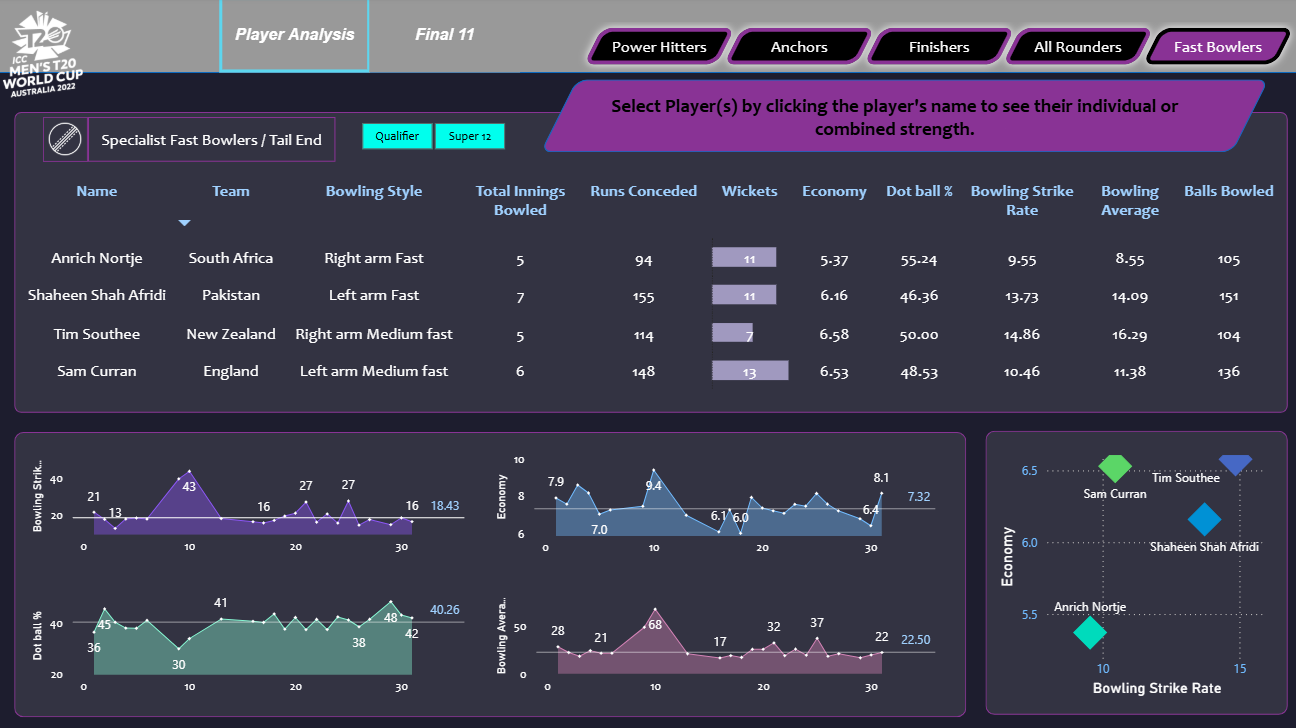

This screenshot's page, from the dashboard's own definition file:
{"tool":"powerbi","page":{"name":"Specialist Fast Bowlers/ Tail End","canvas":[1280,720],"ordinal":4},"visuals":[{"type":"shape","box":[0,73.7,1280.3,646.3],"z":0},{"type":"shape","box":[16.5,112.6,1250.1,295.3],"z":1000},{"type":"shape","box":[969.8,425.8,296.7,278.9],"z":2000},{"type":"image","box":[44.2,117.8,44.2,44.2],"z":3000},{"type":"shape","box":[16.5,426.8,934.5,279.9],"z":4000},{"type":"shape","box":[532.4,81,714.9,71.4],"z":5000},{"type":"tableEx","fields":{"Values":["dim_players.name","dim_players.team","dim_players.bowlingStyle","Key Measures (2).Total Innings Bowled","Key Measures (2).Runs Conceded","Key Measures (2).Wickets","Key Measures (2).Economy","Key Measures (2).Dot ball %","Key Measures (2).Bowling Strike Rate","Key Measures (2).Bowling Average","Key Measures (2).Balls Bowled"]},"box":[16,165.6,1250.3,242.9],"z":6000},{"type":"scatterChart","fields":{"Category":["dim_players.name"],"Series":["dim_players.name"],"Y":["Key Measures (2).Economy"],"X":["Key Measures (2).Bowling Strike Rate"]},"box":[977.9,436.8,279.8,255.2],"z":7000},{"type":"card","fields":{"Values":["Key Measures (2).Bowling Strike Rate"]},"box":[765.6,77.3,114.1,66.3],"z":8000},{"type":"card","fields":{"Values":["Key Measures (2).Dot ball %"]},"box":[950.9,78.5,109.2,61.4],"z":9000},{"type":"card","fields":{"Values":["Key Measures (2).Bowling Average"]},"box":[1046.6,78.8,104.3,62.6],"z":10000},{"type":"card","fields":{"Values":["Key Measures (2).Economy"]},"box":[868.7,81,100.6,57.7],"z":11000},{"type":"actionButton","box":[216.8,0,148.2,74.1],"z":12000},{"type":"image","box":[0,0,87.8,112.5],"z":13000},{"type":"actionButton","box":[566.7,22,164.7,52.1],"z":14000},{"type":"actionButton","box":[703.9,22,164.7,52.1],"z":15000},{"type":"actionButton","box":[841.2,22,164.7,52.1],"z":16000},{"type":"actionButton","box":[978.4,22,164.7,52.1],"z":17000},{"type":"actionButton","box":[1115.3,22,164.7,52.1],"z":18000},{"type":"shape","box":[550.3,90.6,231.9,43.9],"z":19000},{"type":"actionButton","box":[365,0,148.2,74.1],"z":20000},{"type":"shape","box":[584.1,92,592.6,51.5],"z":21000},{"type":"slicer","fields":{"Values":["dim_match_summary.Stage"]},"box":[330.7,116.6,190.7,38.4],"z":22000},{"type":"areaChart","fields":{"Category":["dim_match_summary.matchDate.Variation.Date Hierarchy.Day"],"Y":["Key Measures (2).Bowling Strike Rate"]},"box":[28.8,439.1,435,116.6],"z":23000},{"type":"areaChart","fields":{"Category":["dim_match_summary.matchDate.Variation.Date Hierarchy.Day"],"Y":["Key Measures (2).Bowling Average"]},"box":[483,575,441.9,118],"z":24000},{"type":"areaChart","fields":{"Category":["dim_match_summary.matchDate.Variation.Date Hierarchy.Day"],"Y":["Key Measures (2).Economy"]},"box":[483,439.1,441.9,118],"z":25000},{"type":"areaChart","fields":{"Category":["dim_match_summary.matchDate.Variation.Date Hierarchy.Day"],"Y":["Key Measures (2).Dot ball %"]},"box":[28.8,575,435,118],"z":26000},{"type":"shape","box":[87.8,118,242.9,43.9],"z":27000}]}

Visuals, with their boxes in screenshot pixels (x1, y1, x2, y2), scaled from the page's 1280x720 canvas onto the 1296x728 screenshot:
shape: crop(0, 75, 1295, 727)
shape: crop(17, 114, 1282, 412)
shape: crop(982, 431, 1282, 713)
image: crop(45, 119, 90, 164)
shape: crop(17, 432, 963, 715)
shape: crop(539, 82, 1263, 154)
tableEx - dim_players.name x dim_players.team: crop(16, 167, 1282, 413)
scatterChart - dim_players.name x dim_players.name: crop(990, 442, 1273, 700)
card - Key Measures (2).Bowling Strike Rate: crop(775, 78, 891, 145)
card - Key Measures (2).Dot ball %: crop(963, 79, 1073, 141)
card - Key Measures (2).Bowling Average: crop(1060, 80, 1165, 143)
card - Key Measures (2).Economy: crop(880, 82, 981, 140)
actionButton: crop(220, 0, 370, 75)
image: crop(0, 0, 89, 114)
actionButton: crop(574, 22, 741, 75)
actionButton: crop(713, 22, 879, 75)
actionButton: crop(852, 22, 1018, 75)
actionButton: crop(991, 22, 1157, 75)
actionButton: crop(1129, 22, 1295, 75)
shape: crop(557, 92, 792, 136)
actionButton: crop(370, 0, 520, 75)
shape: crop(591, 93, 1191, 145)
slicer - dim_match_summary.Stage: crop(335, 118, 528, 157)
areaChart - dim_match_summary.matchDate.Variation.Date Hierarchy.Day x Key Measures (2).Bowling Strike Rate: crop(29, 444, 470, 562)
areaChart - dim_match_summary.matchDate.Variation.Date Hierarchy.Day x Key Measures (2).Bowling Average: crop(489, 581, 936, 701)
areaChart - dim_match_summary.matchDate.Variation.Date Hierarchy.Day x Key Measures (2).Economy: crop(489, 444, 936, 563)
areaChart - dim_match_summary.matchDate.Variation.Date Hierarchy.Day x Key Measures (2).Dot ball %: crop(29, 581, 470, 701)
shape: crop(89, 119, 335, 164)
